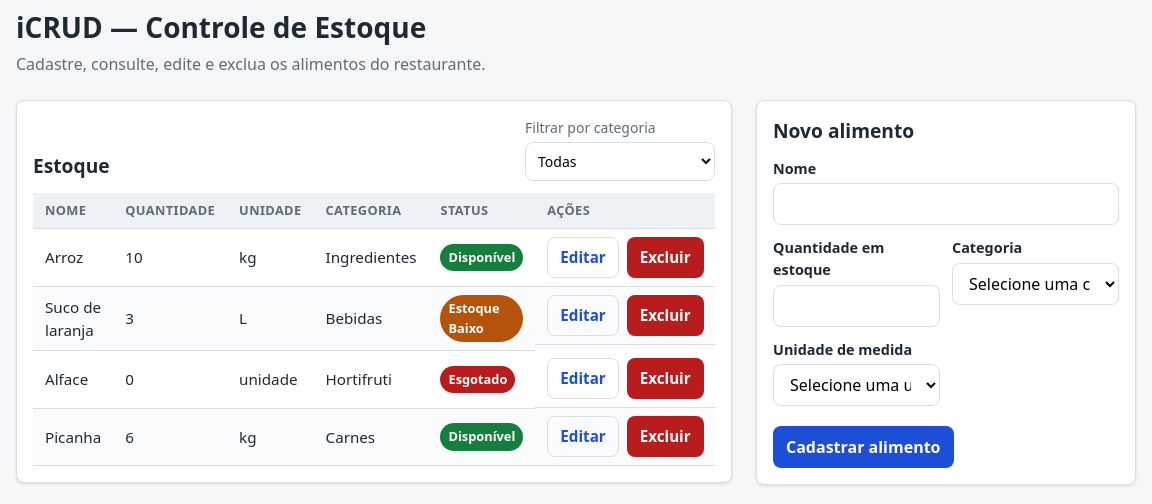
US2 — list and filter › filters by category and restores the full list with Todas
Expected: the text "Arroz" is shown, [33,229,113,287]
Select "Bebidas" in the dropdown labelled "Filtrar por categoria" at (620, 162), box [525,142,715,181]
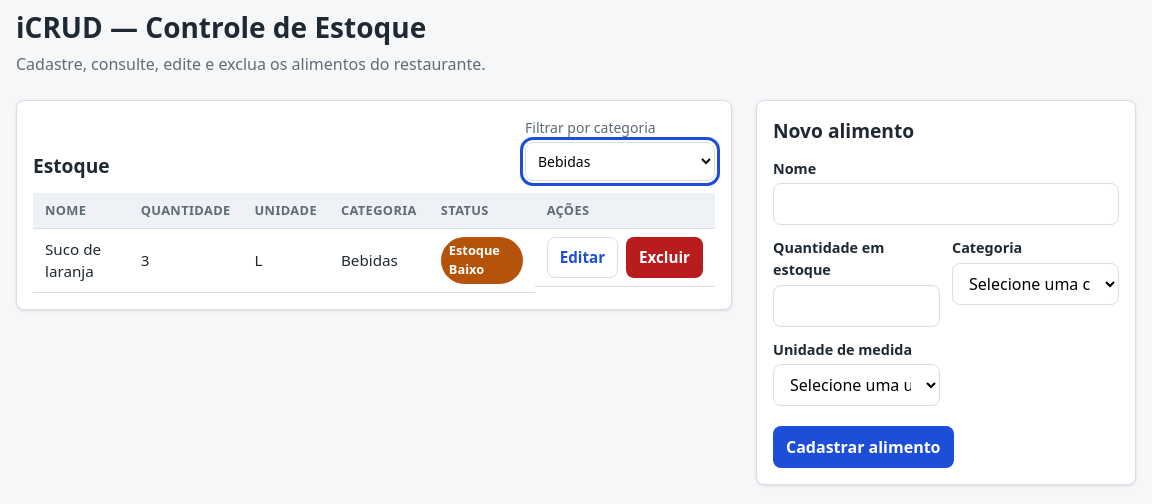
Expected: the text "Suco de laranja" is shown, [33,229,129,292]
Now the text "Arroz" is gone
Now the text "Alface" is gone
Select "Todas" in the dropdown labelled "Filtrar por categoria" at (620, 162), box [525,142,715,181]
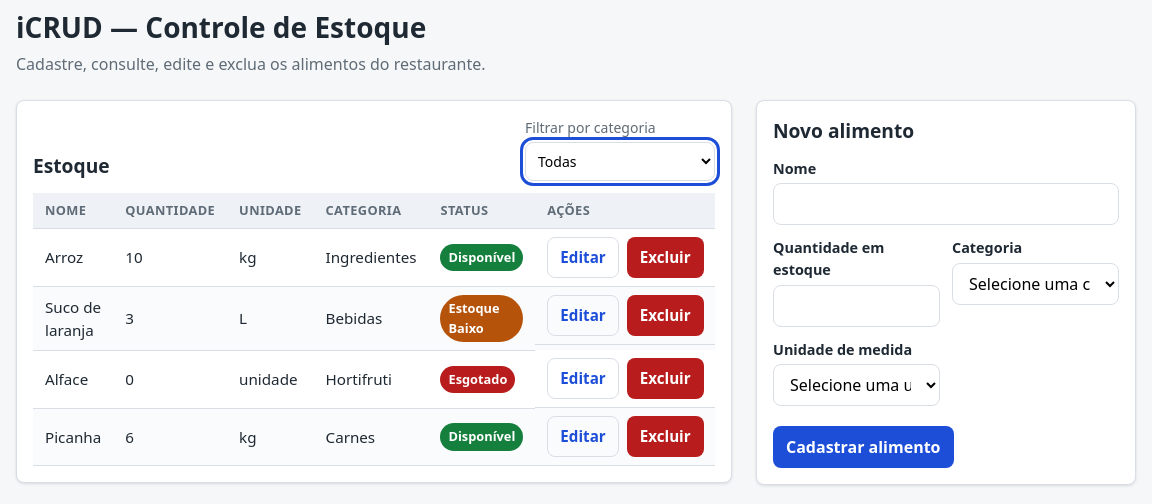
Now the text "Arroz" is shown, box [33,229,113,287]
Now the text "Alface" is shown, box [33,350,113,408]
